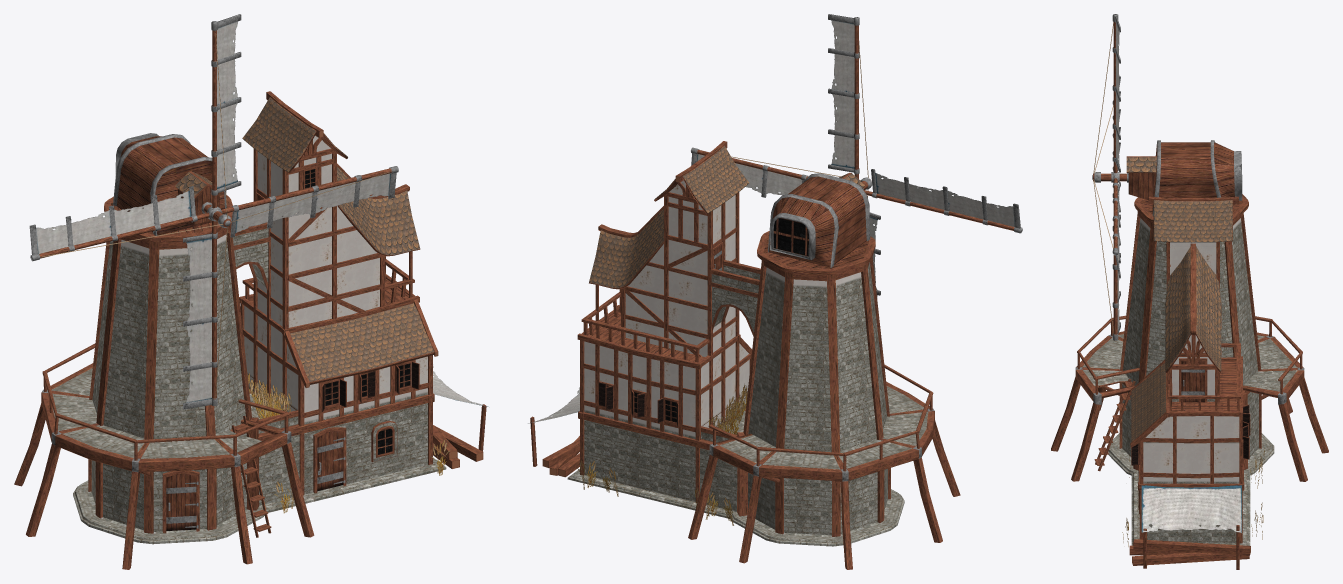
The model's file is windmill.glb.
The picture shows the model from 3 angles, left to right: view 1: azimuth 30°, elevation 25°; view 2: azimuth 150°, elevation 25°; view 3: azimuth 270°, elevation 25°; orthographic projection. The views are drawn at different scales.
Visible parts, largest first — view 1: pCube11_aiStandardSurface1_0, windmills; view 2: pCube11_aiStandardSurface1_0, windmills; view 3: pCube11_aiStandardSurface1_0, windmills.
Part boxes in pixels (x1,y1,x2,y2): pCube11_aiStandardSurface1_0: (14, 91, 488, 569); windmills: (29, 14, 398, 409); pCube11_aiStandardSurface1_0: (528, 141, 960, 569); windmills: (691, 14, 1022, 297); pCube11_aiStandardSurface1_0: (1051, 140, 1328, 569); windmills: (1092, 14, 1128, 340).
Size of the model in its own units: 0.3759 by 0.3872 by 0.2227.
1 material, 1 textured.
